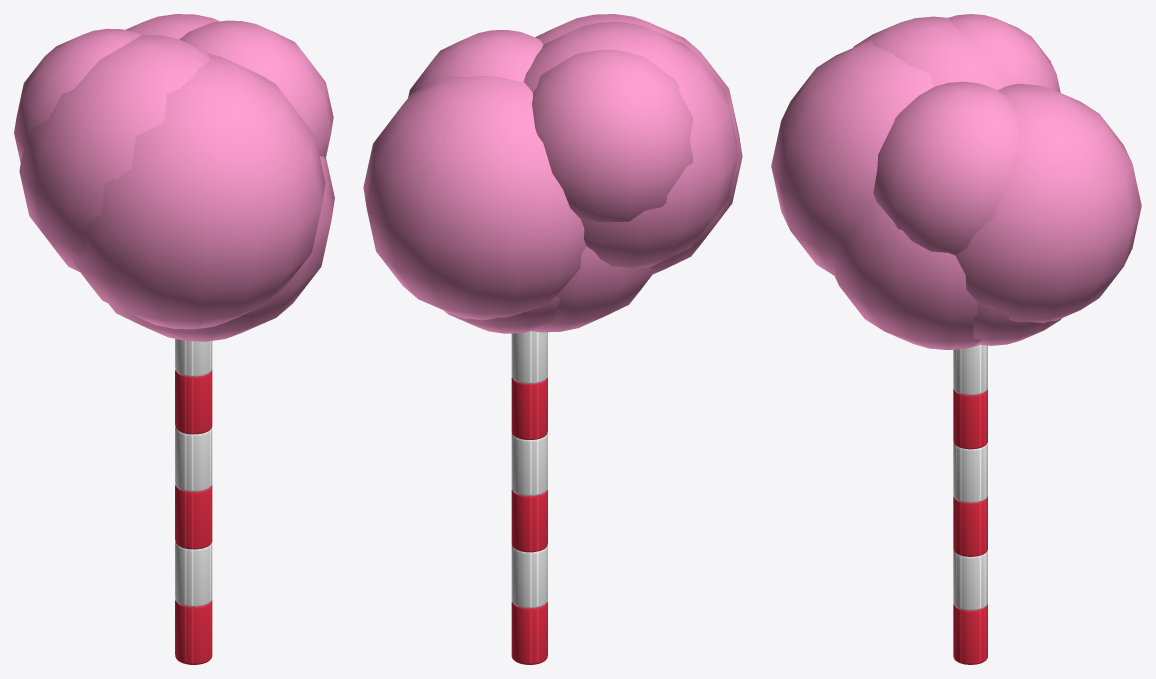
Rendered from CandyTree.glb.
3 renders of one model, left to right at view 1: azimuth 30°, elevation 25°; view 2: azimuth 150°, elevation 25°; view 3: azimuth 270°, elevation 25°, orthographic. The views are drawn at different scales.
Visible parts, largest first — view 1: CandyTree.001; view 2: CandyTree.001; view 3: CandyTree.001.
Boxes of the visible parts, x1=… form: CandyTree.001: x1=14, y1=14, x2=334, y2=664; CandyTree.001: x1=363, y1=14, x2=742, y2=664; CandyTree.001: x1=771, y1=14, x2=1141, y2=664.
Size of the model in its own units: 2.23 by 4.47 by 2.5.
